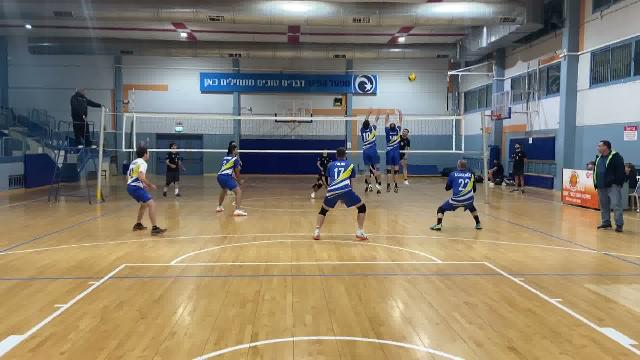ball: (405, 73, 421, 85)
